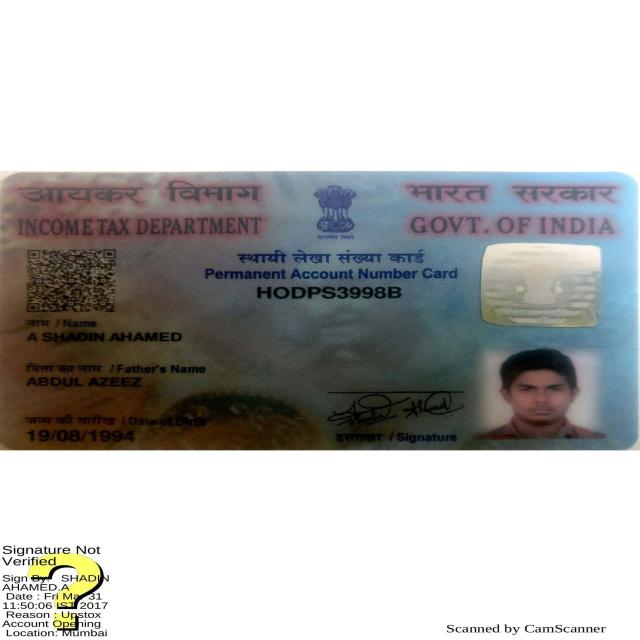pan_card: (0, 177, 635, 450)
